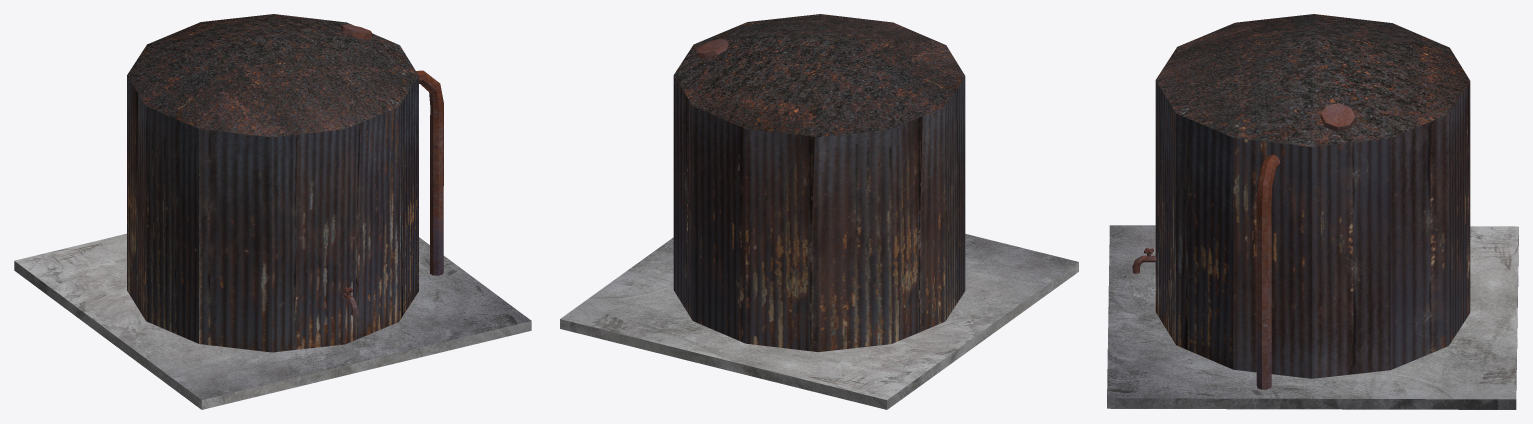
The model's file is Watertank_1.fbx.
3 renders of one model, left to right at view 1: azimuth 30°, elevation 25°; view 2: azimuth 150°, elevation 25°; view 3: azimuth 270°, elevation 25°, orthographic. The views are drawn at different scales.
Visible parts, largest first — view 1: Water_Tank; view 2: Water_Tank; view 3: Water_Tank.
Boxes of the visible parts, box(x1,y1,x2,y2) form: Water_Tank: box(14, 14, 531, 409); Water_Tank: box(560, 14, 1078, 409); Water_Tank: box(1107, 14, 1518, 409).
Size of the model in its own units: 38.07 by 28.96 by 38.07.
1 material, 1 textured.
